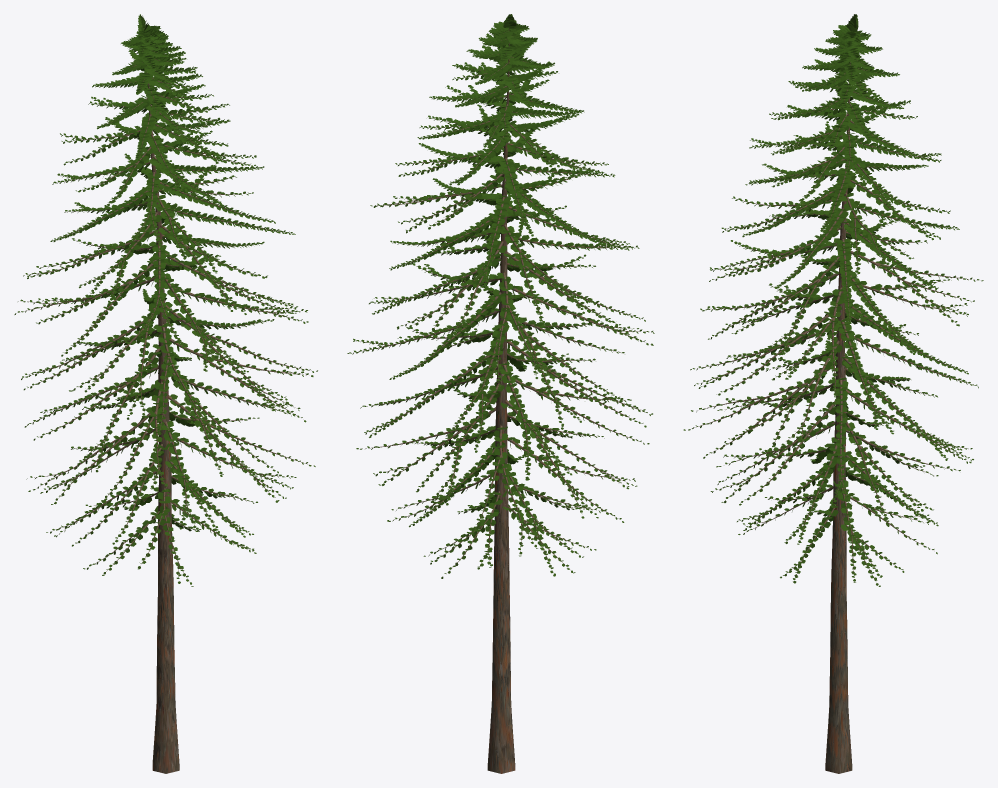
Rendered from Tall Skinny Tree.fbx.
The picture shows the model from 3 angles, left to right: view 1: azimuth 30°, elevation 25°; view 2: azimuth 150°, elevation 25°; view 3: azimuth 270°, elevation 25°; orthographic projection. The views are drawn at different scales.
Parts seen in each view (by area): view 1: leaves.002, tree.002; view 2: leaves.002, tree.002; view 3: leaves.002, tree.002.
Boxes of the visible parts, x1=… form: leaves.002: x1=14, y1=14, x2=317, y2=586; tree.002: x1=24, y1=28, x2=311, y2=773; leaves.002: x1=347, y1=14, x2=654, y2=578; tree.002: x1=356, y1=28, x2=646, y2=773; leaves.002: x1=683, y1=14, x2=983, y2=586; tree.002: x1=694, y1=35, x2=974, y2=773.
Size of the model in its own units: 1862 by 4941 by 1806.
2 materials, 1 textured.
